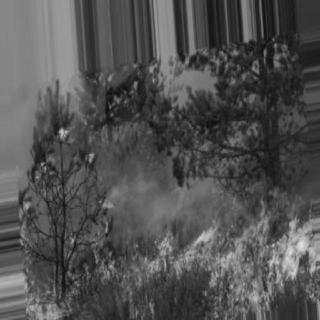Fire: (17, 181, 315, 311), (34, 106, 94, 178)
